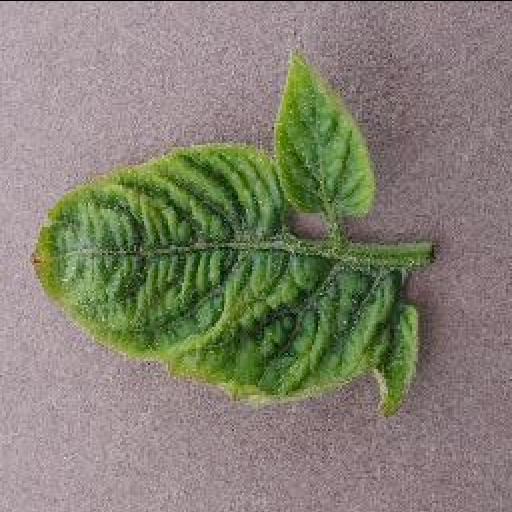disease_tomato: (27, 48, 421, 412)
